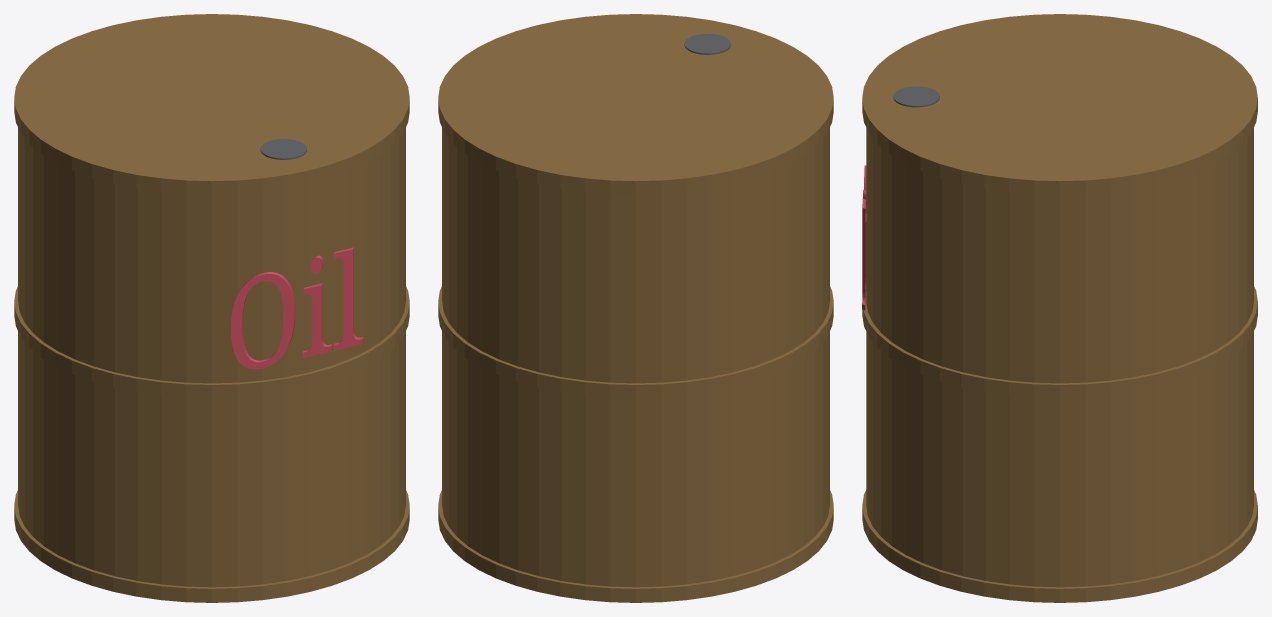
The model's file is Dumped oil.glb.
The picture shows the model from 3 angles, left to right: view 1: azimuth 30°, elevation 25°; view 2: azimuth 150°, elevation 25°; view 3: azimuth 270°, elevation 25°; orthographic projection.
Visible parts, largest first — view 1: Mesh_Mesh_head_geo.001_lambert2SG.001; view 2: Mesh_Mesh_head_geo.001_lambert2SG.001; view 3: Mesh_Mesh_head_geo.001_lambert2SG.001.
Boxes of the visible parts, x1,y1,x2,y2 form: Mesh_Mesh_head_geo.001_lambert2SG.001: (14,14,409,602); Mesh_Mesh_head_geo.001_lambert2SG.001: (438,14,833,602); Mesh_Mesh_head_geo.001_lambert2SG.001: (862,14,1257,602).
Size of the model in its own units: 25.5 by 30.1 by 25.51.
